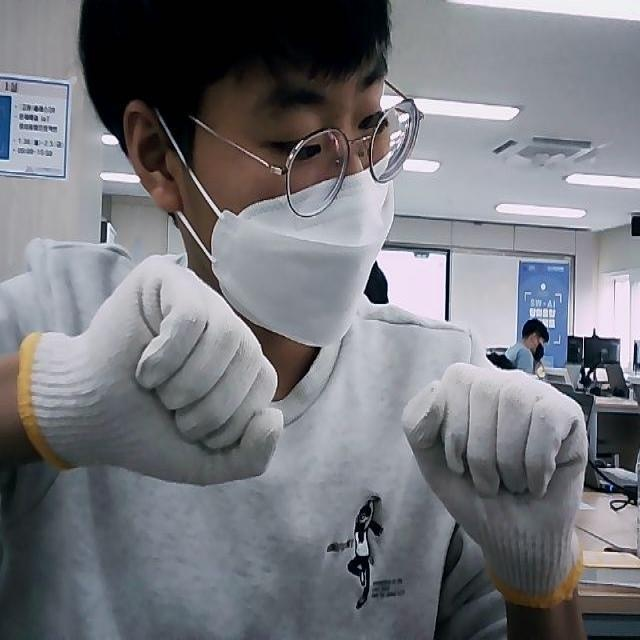Guantes: (17, 251, 285, 488), (401, 358, 587, 602)
